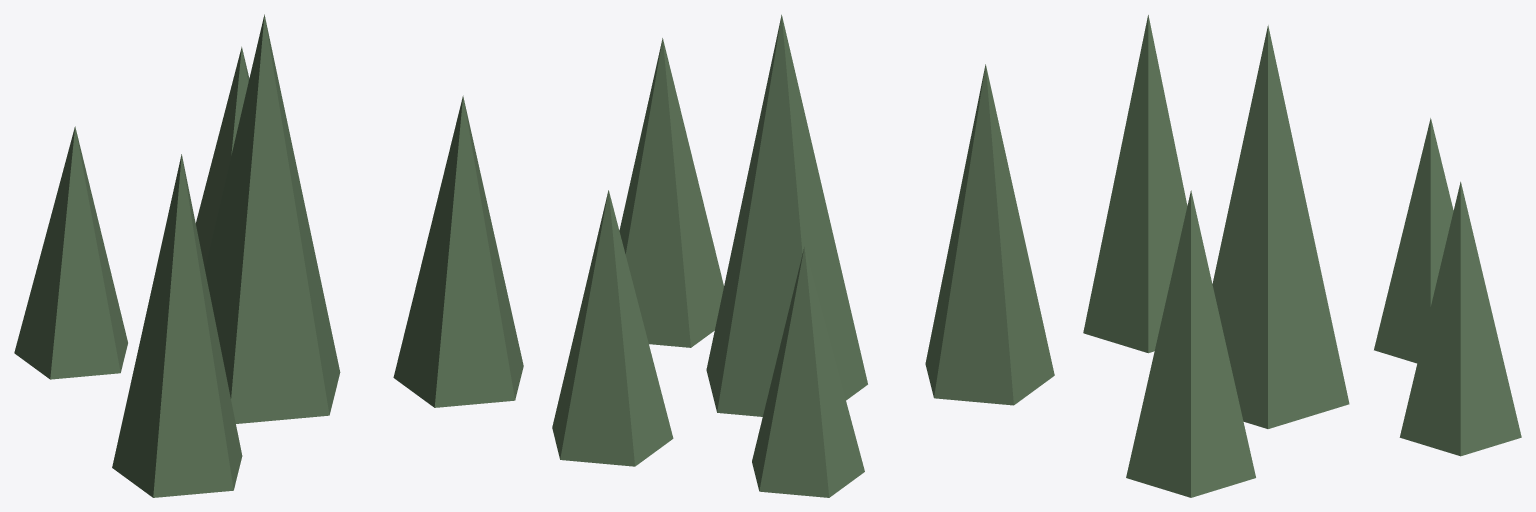
Rendered from grass_tuft.glb.
3 views of the same model, side by side, from view 1: azimuth 30°, elevation 25°; view 2: azimuth 150°, elevation 25°; view 3: azimuth 270°, elevation 25° (orthographic). The views are drawn at different scales.
Parts seen in each view (by area): view 1: grass_tuft; view 2: grass_tuft; view 3: grass_tuft.
Boxes of the visible parts, left/top/right/bottom form: grass_tuft: left=14, top=14, right=523, bottom=497; grass_tuft: left=552, top=14, right=1054, bottom=497; grass_tuft: left=1083, top=15, right=1521, bottom=497.
Size of the model in its own units: 1.09 by 0.9501 by 1.02.
